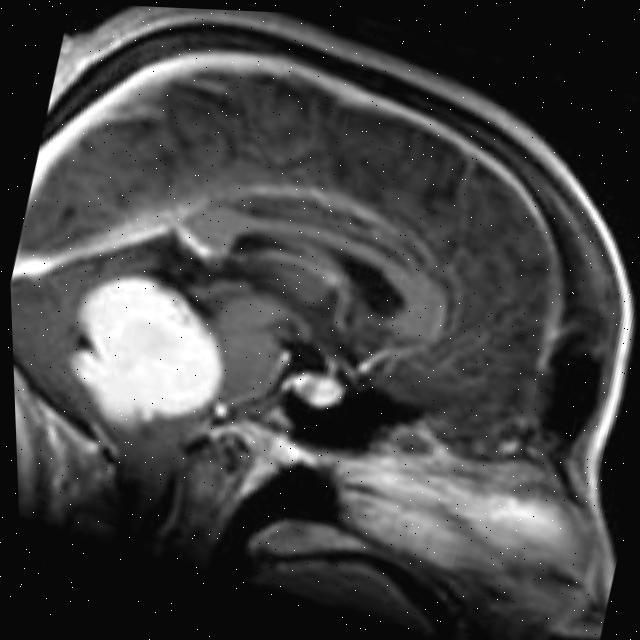Meningioma: (50, 257, 248, 453)
